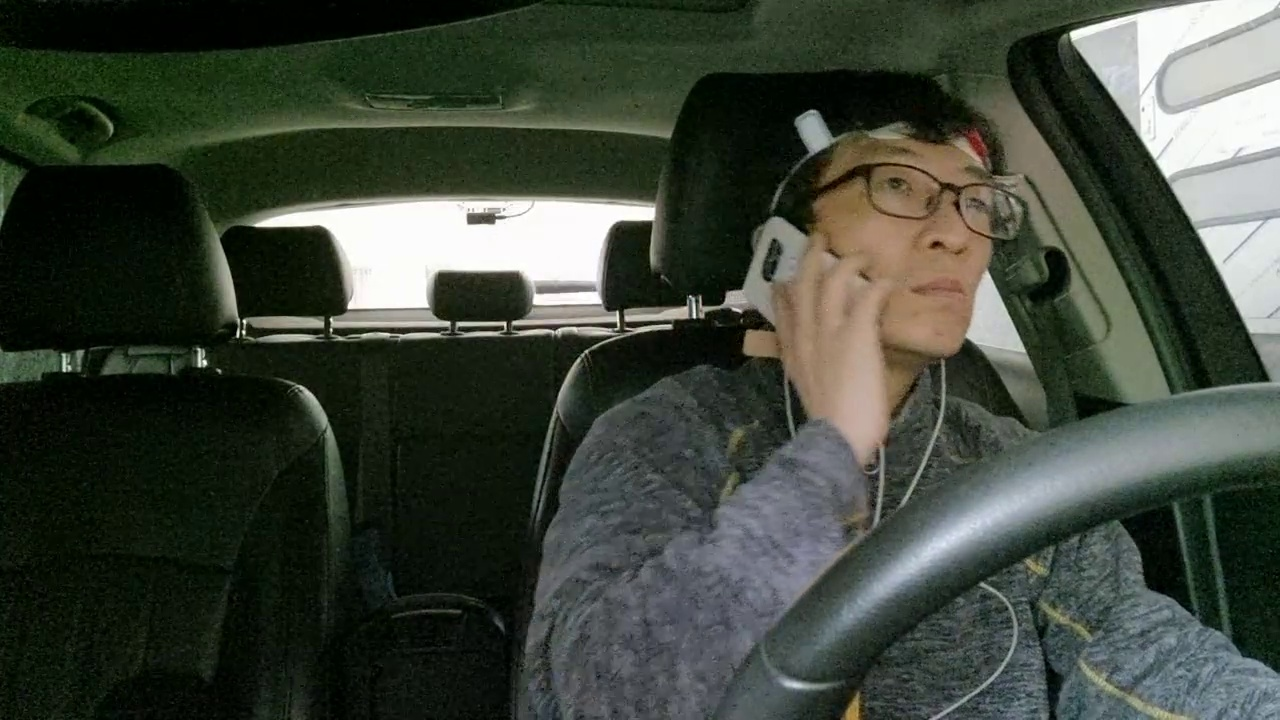phone: (715, 193, 906, 384)
